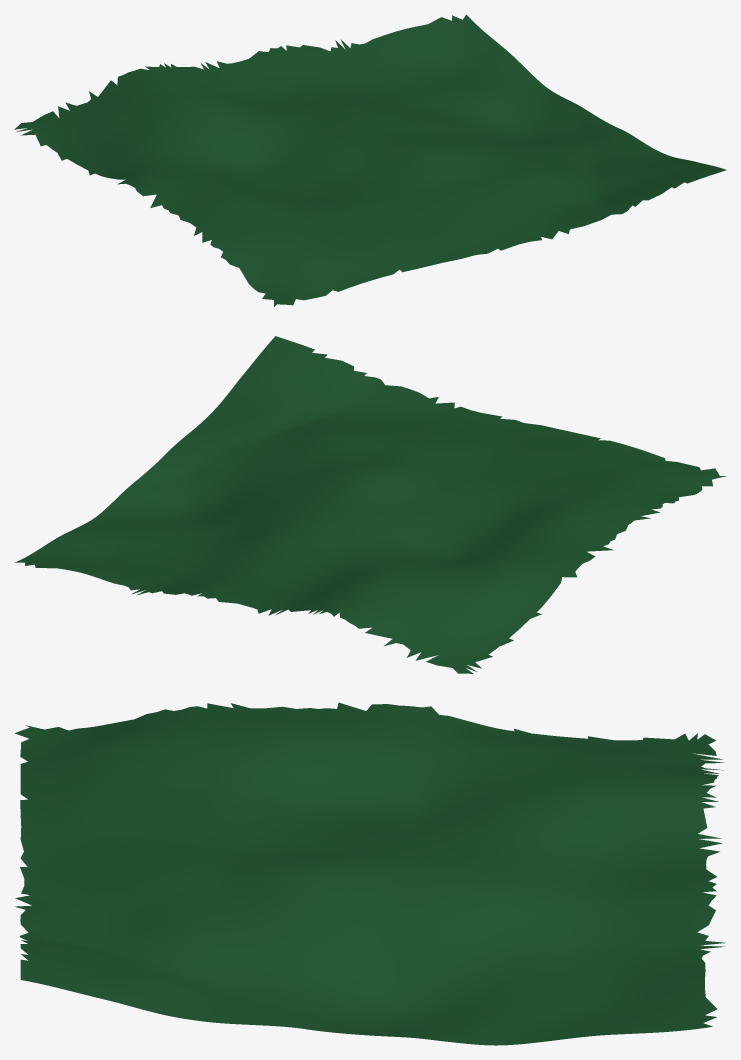
File: payo_land_x3_ym2.glb
The picture shows the model from 3 angles, top to bottom: view 1: azimuth 30°, elevation 25°; view 2: azimuth 150°, elevation 25°; view 3: azimuth 270°, elevation 25°; orthographic projection. The views are drawn at different scales.
Parts seen in each view (by area): view 1: payo_land_x3_ym2; view 2: payo_land_x3_ym2; view 3: payo_land_x3_ym2.
Boxes of the visible parts, <box> form: payo_land_x3_ym2: <box>14,14,726,306</box>; payo_land_x3_ym2: <box>15,336,726,673</box>; payo_land_x3_ym2: <box>15,702,725,1045</box>.
Bounding box in the file's own units: 261 × 29.42 × 266.
